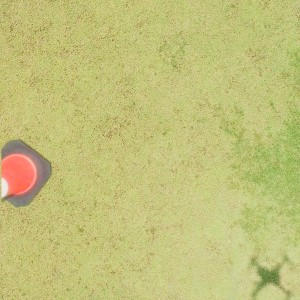traffic cone: (1, 139, 51, 207)
